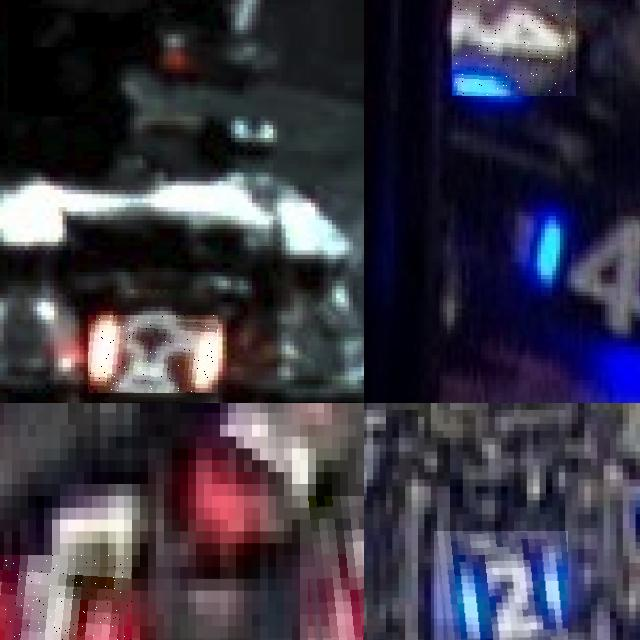B2: (433, 531, 568, 640)
B4: (524, 190, 640, 346), (452, 0, 576, 95)
R3: (0, 555, 132, 640), (300, 495, 364, 640)
Rs: (88, 315, 218, 393)
